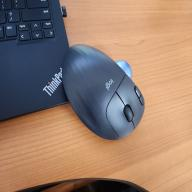mouse: (62, 44, 146, 142)
